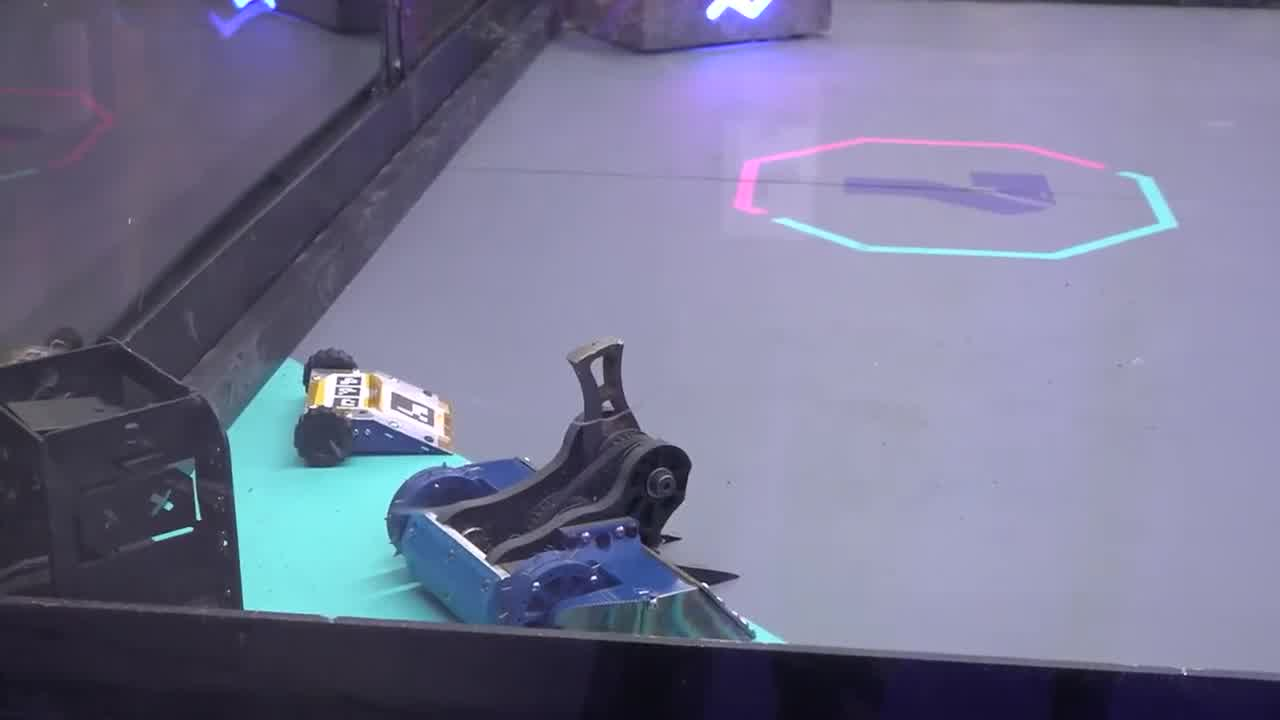combatbot: (393, 338, 747, 636)
housebot: (585, 0, 831, 58)
minibot: (293, 348, 460, 468)
